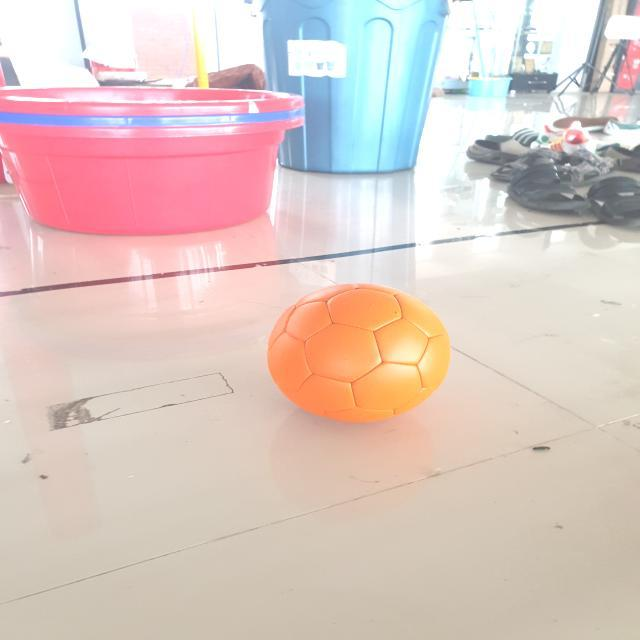bola: (246, 275, 472, 426)
